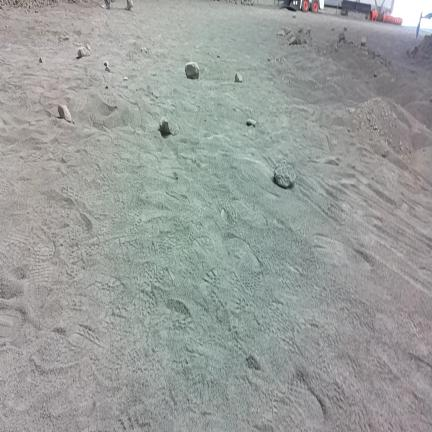Rock: (274, 160, 296, 188), (160, 117, 175, 134), (58, 104, 72, 122), (186, 62, 199, 79), (78, 47, 89, 58), (58, 34, 69, 42), (289, 35, 297, 45), (247, 119, 256, 127), (339, 33, 346, 42), (235, 73, 242, 82), (282, 28, 291, 35), (277, 30, 285, 37), (39, 57, 46, 64), (361, 37, 366, 46), (299, 39, 307, 44), (141, 47, 147, 53), (86, 42, 90, 51), (306, 28, 310, 36), (298, 28, 303, 33), (104, 61, 109, 66), (106, 66, 110, 71), (105, 85, 109, 89), (123, 77, 128, 80), (331, 28, 335, 31), (344, 27, 347, 31), (217, 54, 220, 58), (293, 14, 296, 18), (374, 73, 377, 77)
